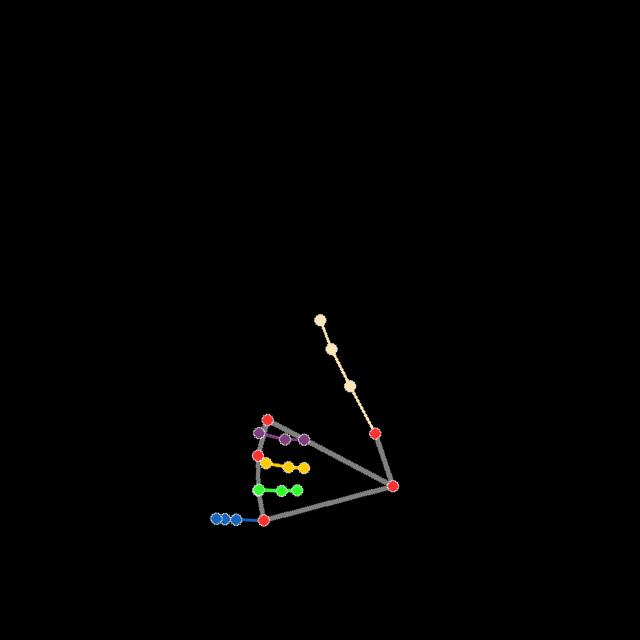skr: (208, 311, 400, 531)
